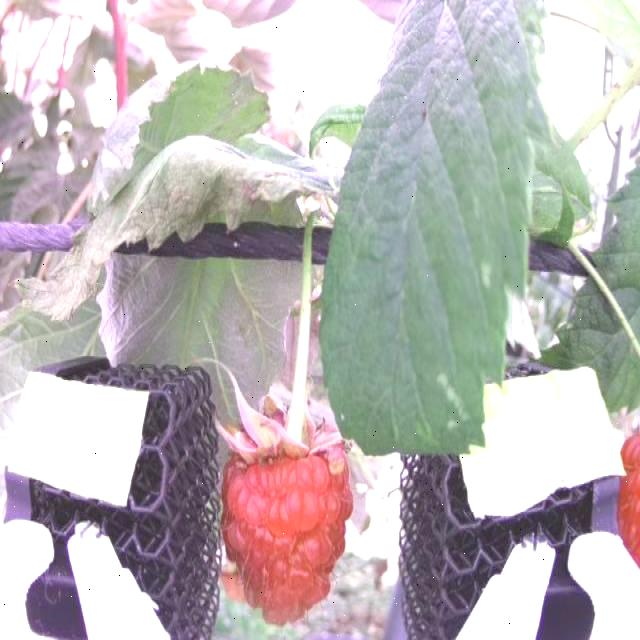Riped berries: (214, 404, 359, 624), (615, 420, 640, 565)
